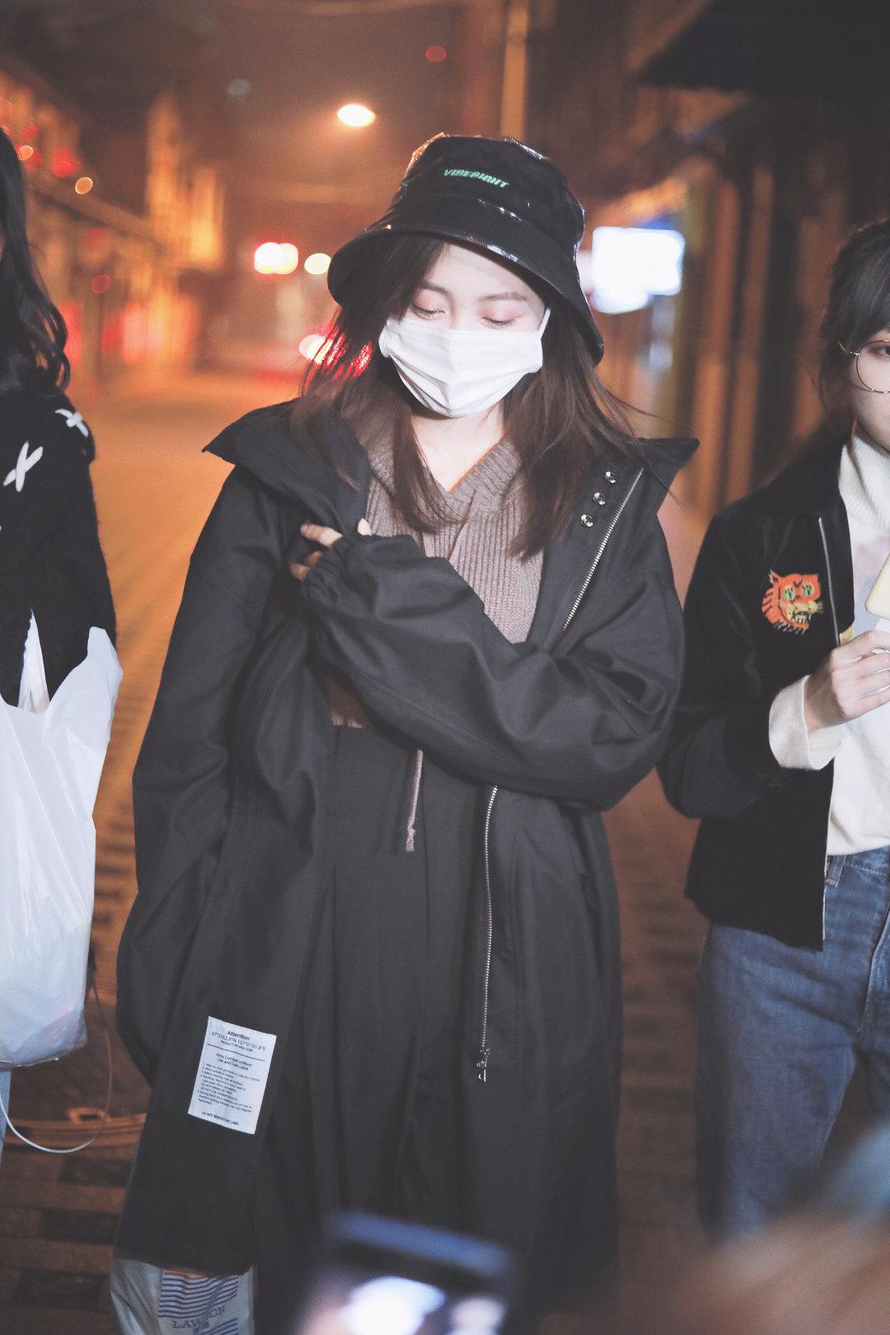NONE: (852, 313, 890, 459)
OK: (383, 251, 543, 424)
